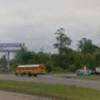buses: (13, 63, 47, 76)
